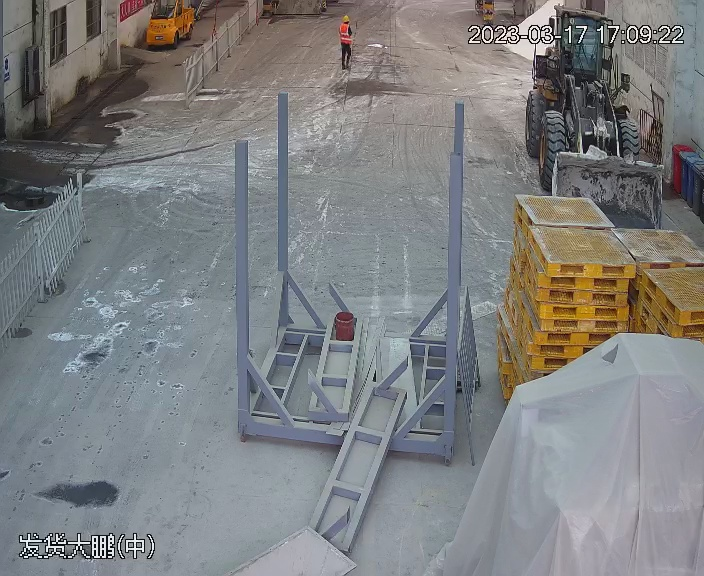head: (338, 14, 353, 32)
helmet: (341, 14, 351, 21)
people: (337, 13, 356, 70)
